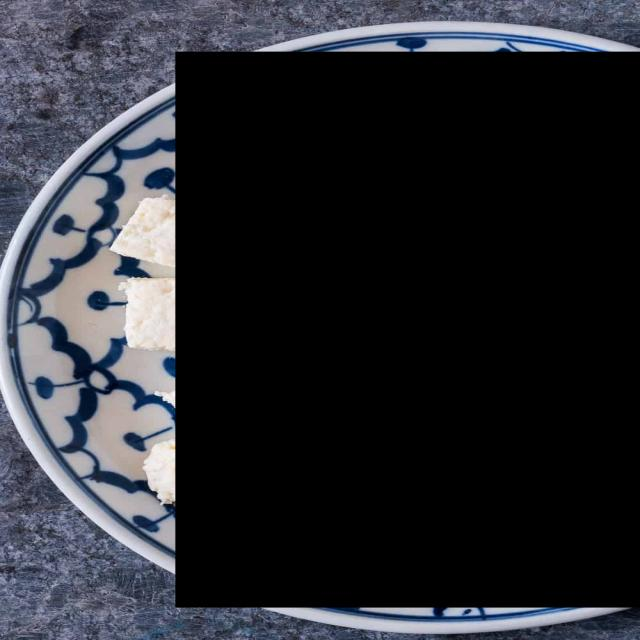Paneer: (175, 52, 640, 608)
